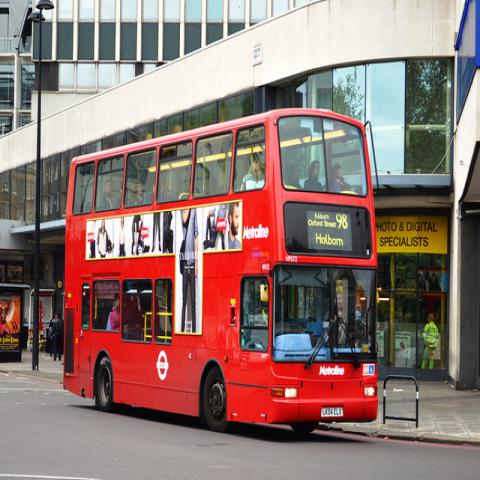bus: (64, 110, 382, 436)
